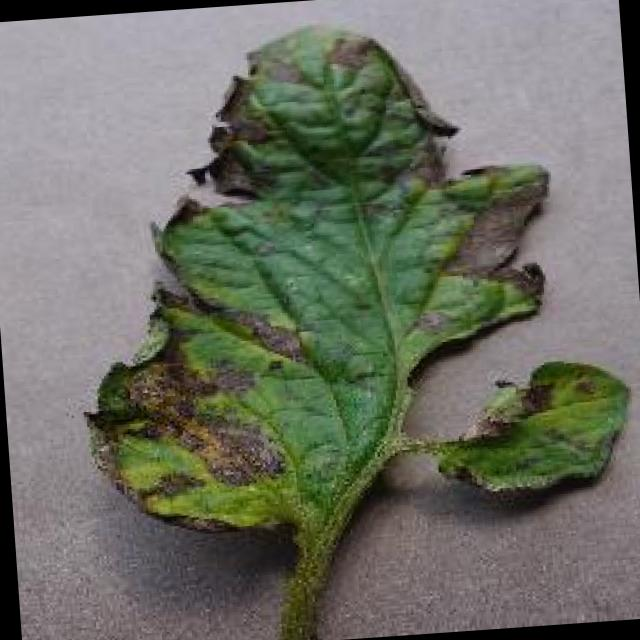Tomato_Early_Blight: (41, 3, 610, 540)
